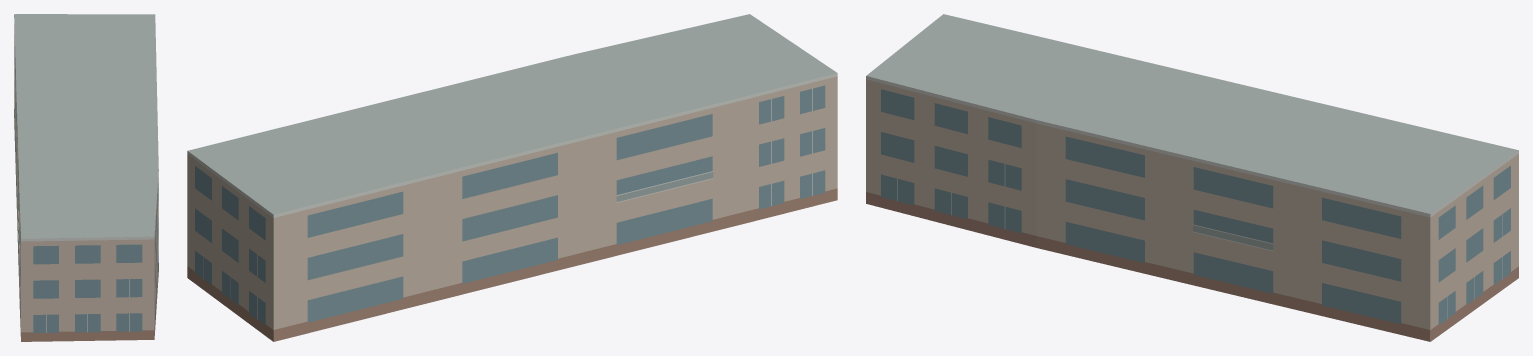
File: survey-upis-32759063.glb
3 views of the same model, side by side, from view 1: azimuth 30°, elevation 25°; view 2: azimuth 150°, elevation 25°; view 3: azimuth 270°, elevation 25° (orthographic). The views are drawn at different scales.
Visible parts, largest first — view 1: survey-upis-32759063.tmp; view 2: survey-upis-32759063.tmp; view 3: survey-upis-32759063.tmp.
Part boxes in pixels (bbox=[...]): survey-upis-32759063.tmp: bbox=[14, 14, 158, 341]; survey-upis-32759063.tmp: bbox=[187, 14, 837, 341]; survey-upis-32759063.tmp: bbox=[866, 14, 1518, 341].
Bounding box in the file's own units: 30.69 × 9.15 × 42.32.
